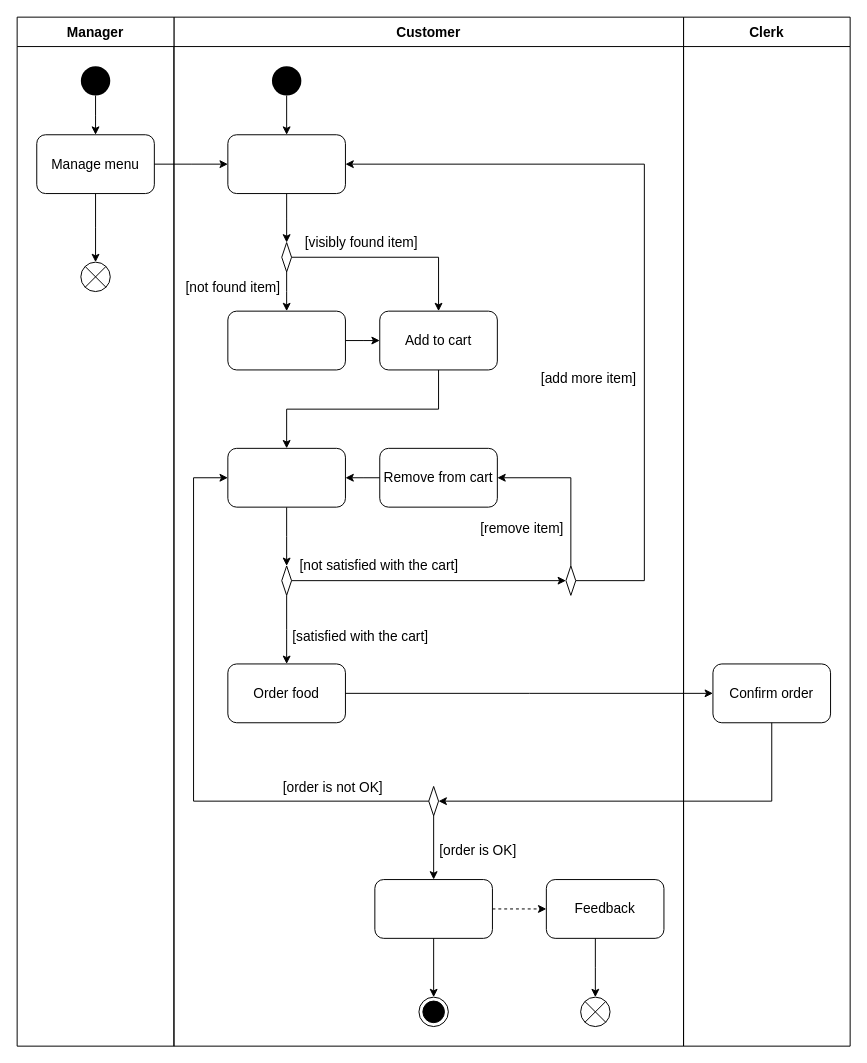
Image size: 867x1063. Some labels were removed from this diagram. The shapes that lost their labels are listed below. From the top down, each one's centre as x and y in pixels, then its label:
At [286,164]: "View menu".
At [286,340]: "Search item".
At [286,477]: "View cart".
At [433,908]: "Purchase".
